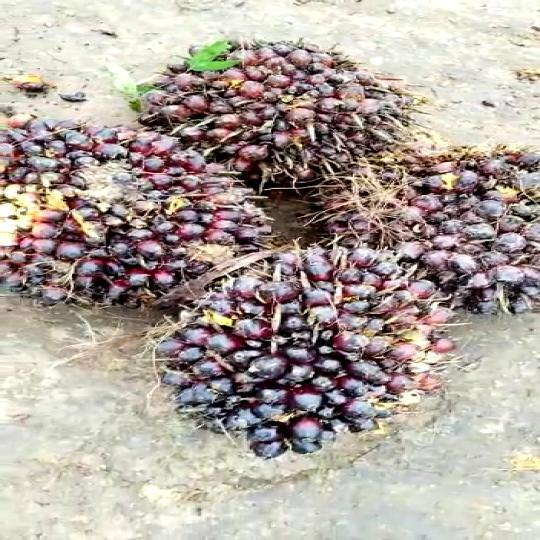kurang masak: (144, 220, 458, 471), (0, 93, 262, 330), (179, 21, 430, 190), (332, 112, 540, 312)
